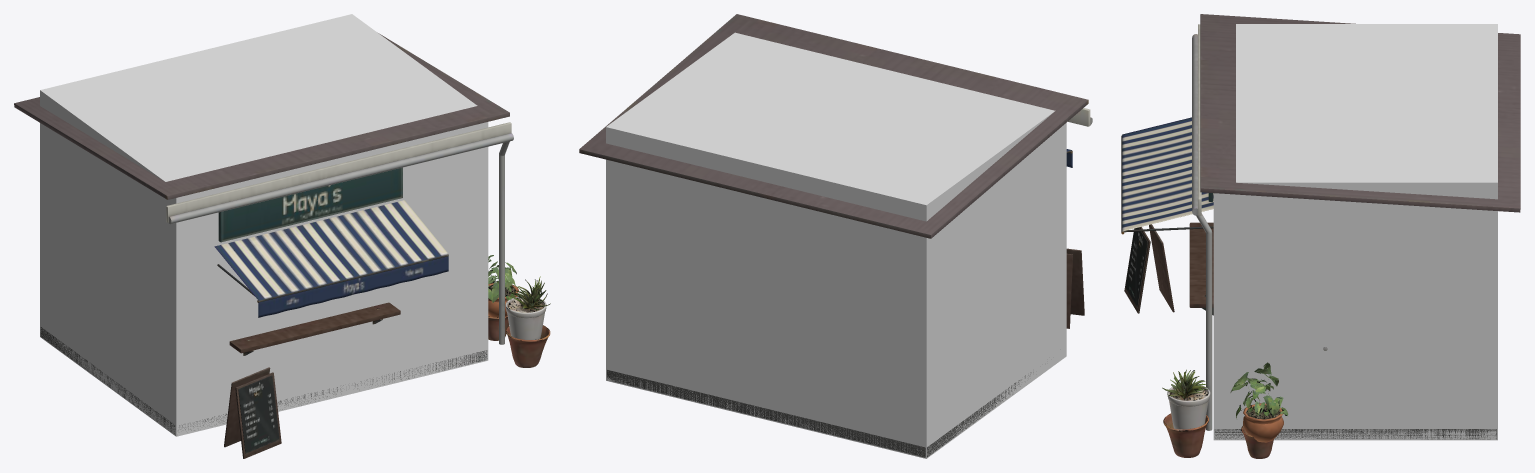
Rendered from p1_kiosk.glb.
3 renders of one model, left to right at view 1: azimuth 30°, elevation 25°; view 2: azimuth 150°, elevation 25°; view 3: azimuth 270°, elevation 25°, orthographic. The views are drawn at different scales.
Visible parts, largest first — view 1: p1_kiosk_COL, p1_kiosk_LOD0; view 2: p1_kiosk_COL, p1_kiosk_LOD0; view 3: p1_kiosk_COL, p1_kiosk_LOD0.
Part boxes in pixels (x1,y1,x2,y2): p1_kiosk_COL: (40, 14, 488, 436); p1_kiosk_LOD0: (14, 33, 550, 458); p1_kiosk_COL: (606, 32, 1066, 458); p1_kiosk_LOD0: (579, 14, 1092, 457); p1_kiosk_COL: (1213, 24, 1497, 440); p1_kiosk_LOD0: (1121, 14, 1520, 458).
Size of what is drawn, in the model's own units: 5.06 by 3.13 by 4.35.
Materials: 2 (1 with a texture image).
